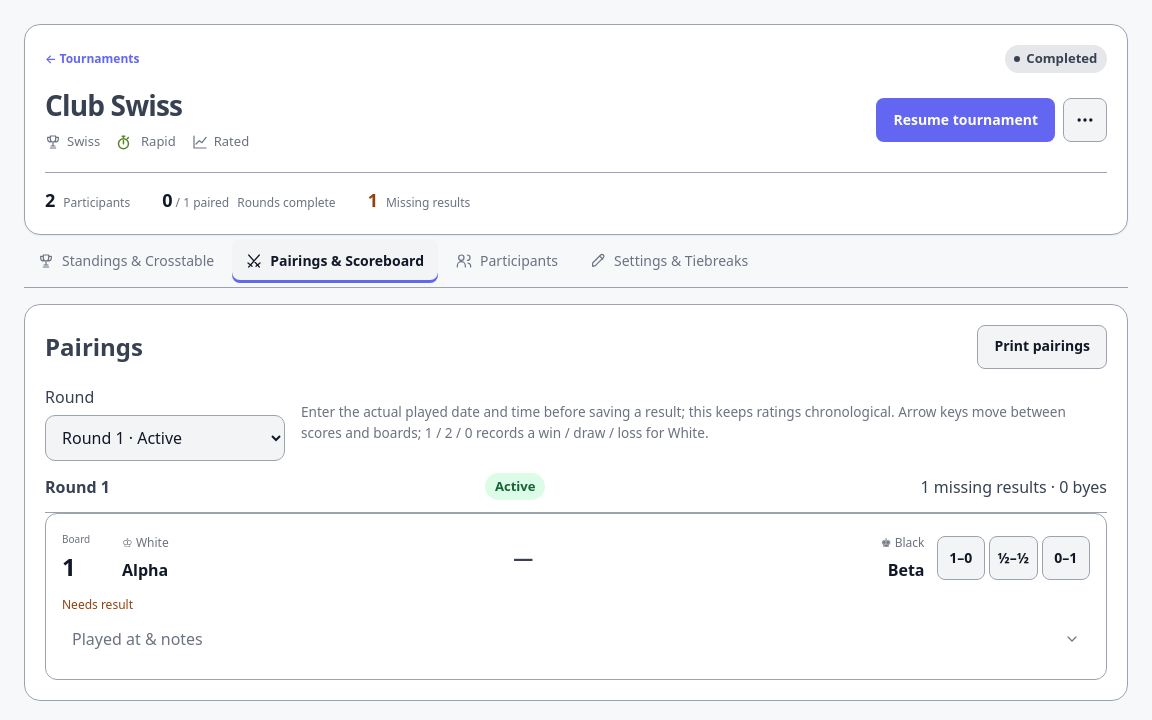
Test: TournamentPage duplicate result protection › lets an admin confirm resuming a completed tournament
Click the button "Resume tournament".
click(966, 120)  # box [876, 98, 1055, 142]
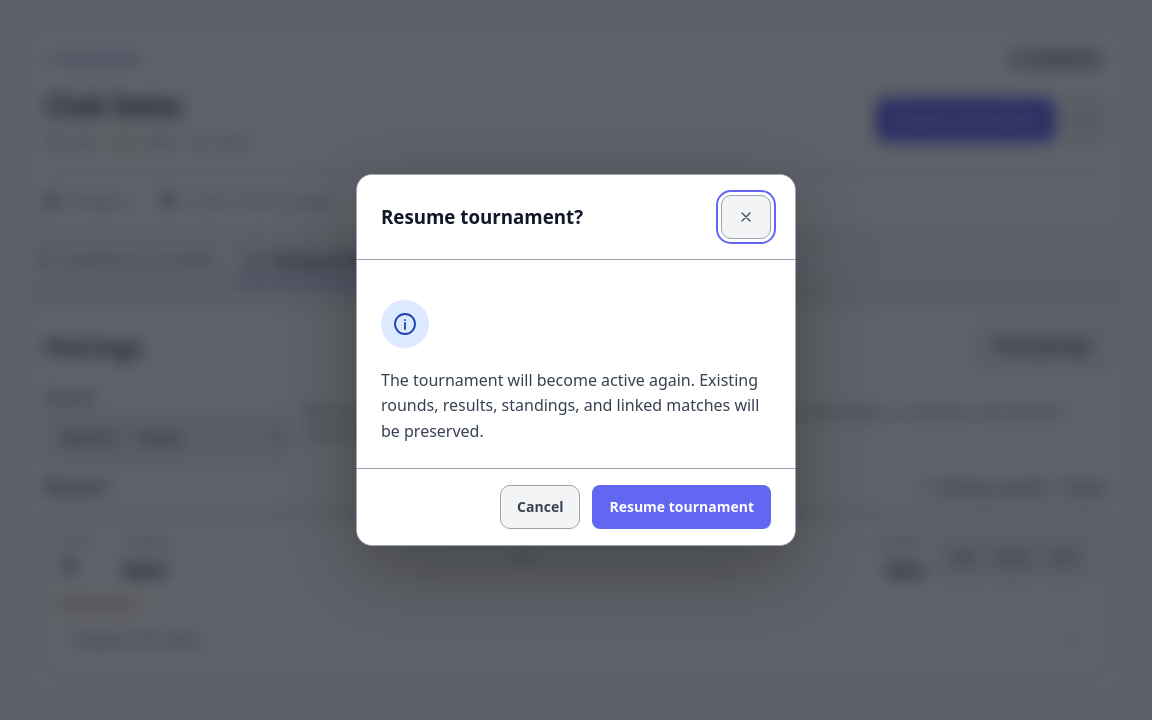
Expected: the text "Existing rounds, results, standings, and linked matches will be preserved" is shown, [381, 369, 759, 442]
Click the button "Resume tournament".
click(682, 507)  # box [592, 485, 771, 529]
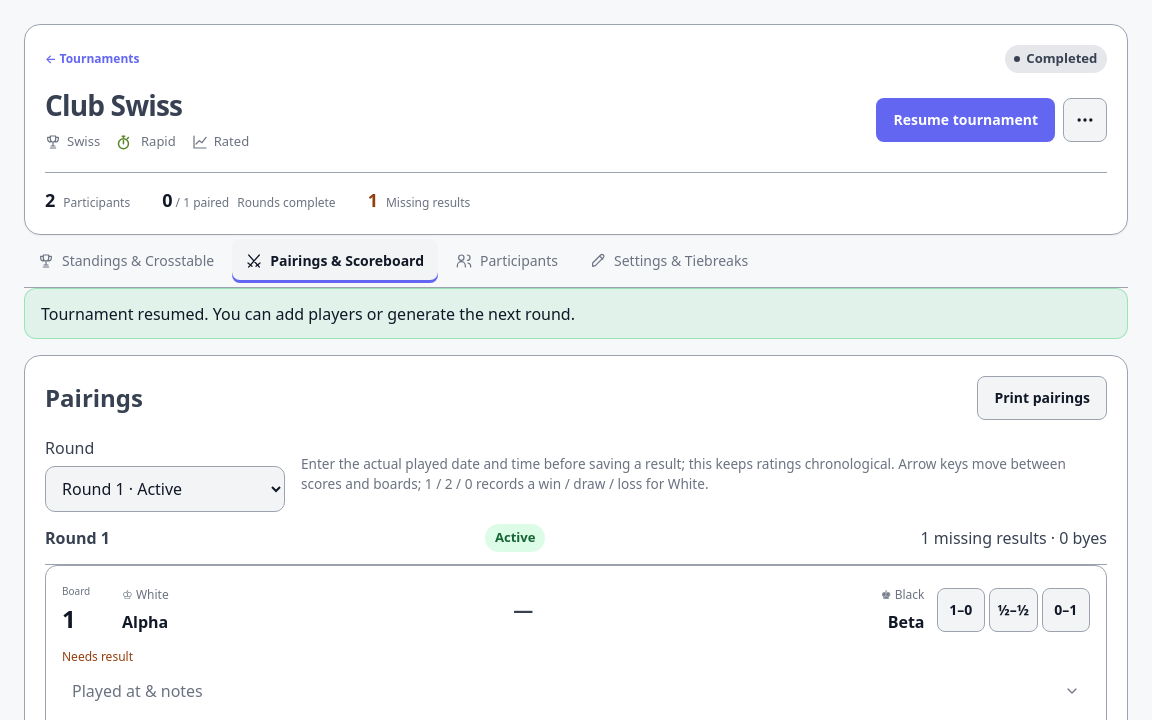
Expected: the message shows "Tournament resumed", [41, 303, 575, 325]
